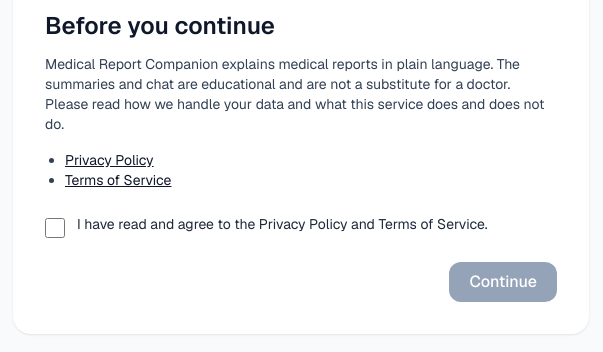
Scenario: ConsentInterstitial › enables Continue once the checkbox is ticked
Click the checkbox.
click(55, 228)  # box [45,218,65,238]
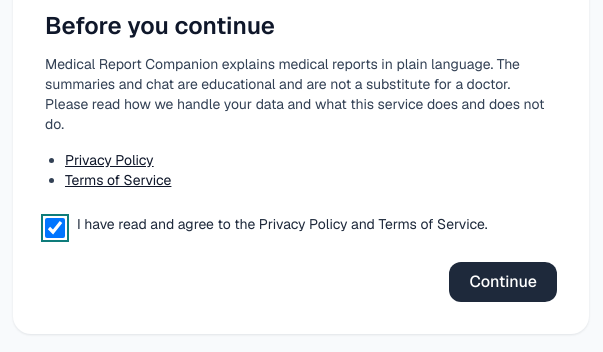
Check: the button "Continue" is enabled, box [450,262,557,302]
